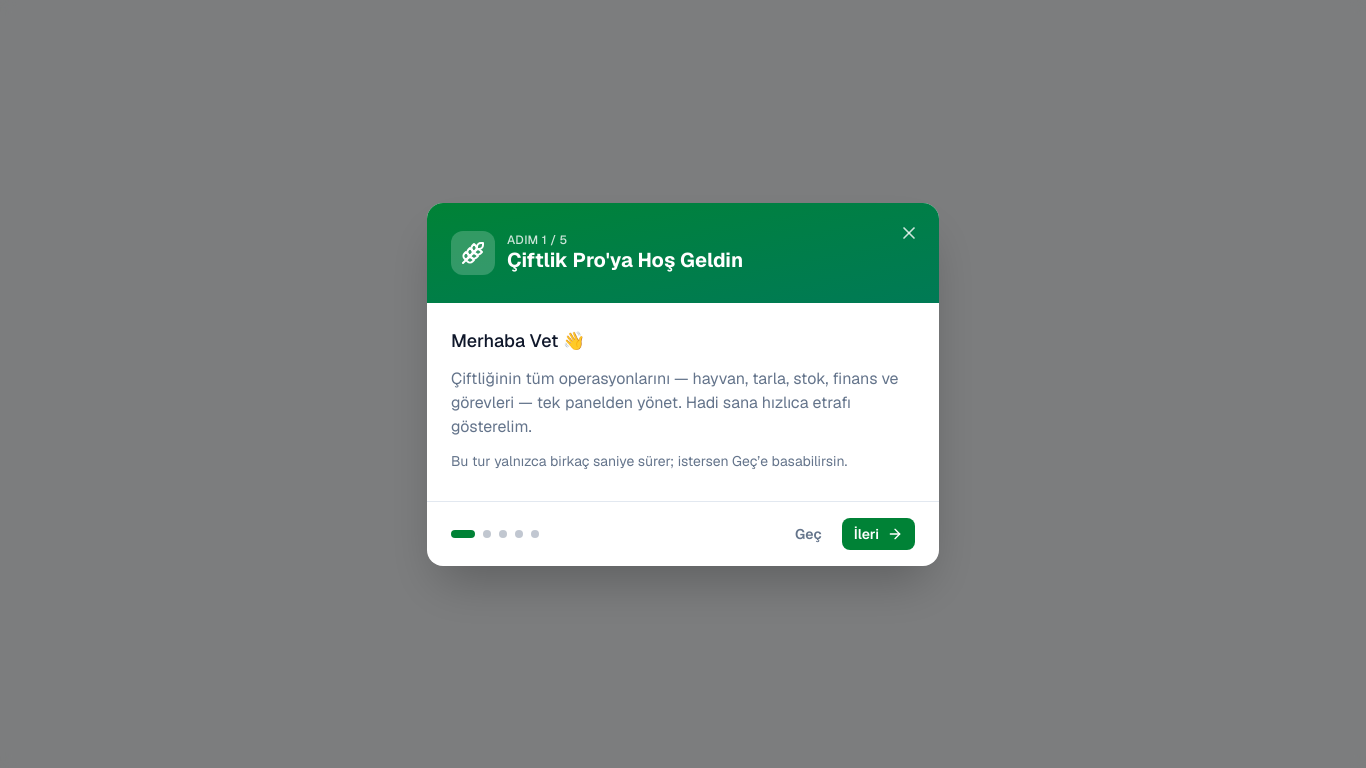
Test: OnboardingModal › role ozel adim, rolun yetkilerini gosterir (VET)
Go to step 3
Click the button "İleri" at (878, 534), box [842,518,915,550]
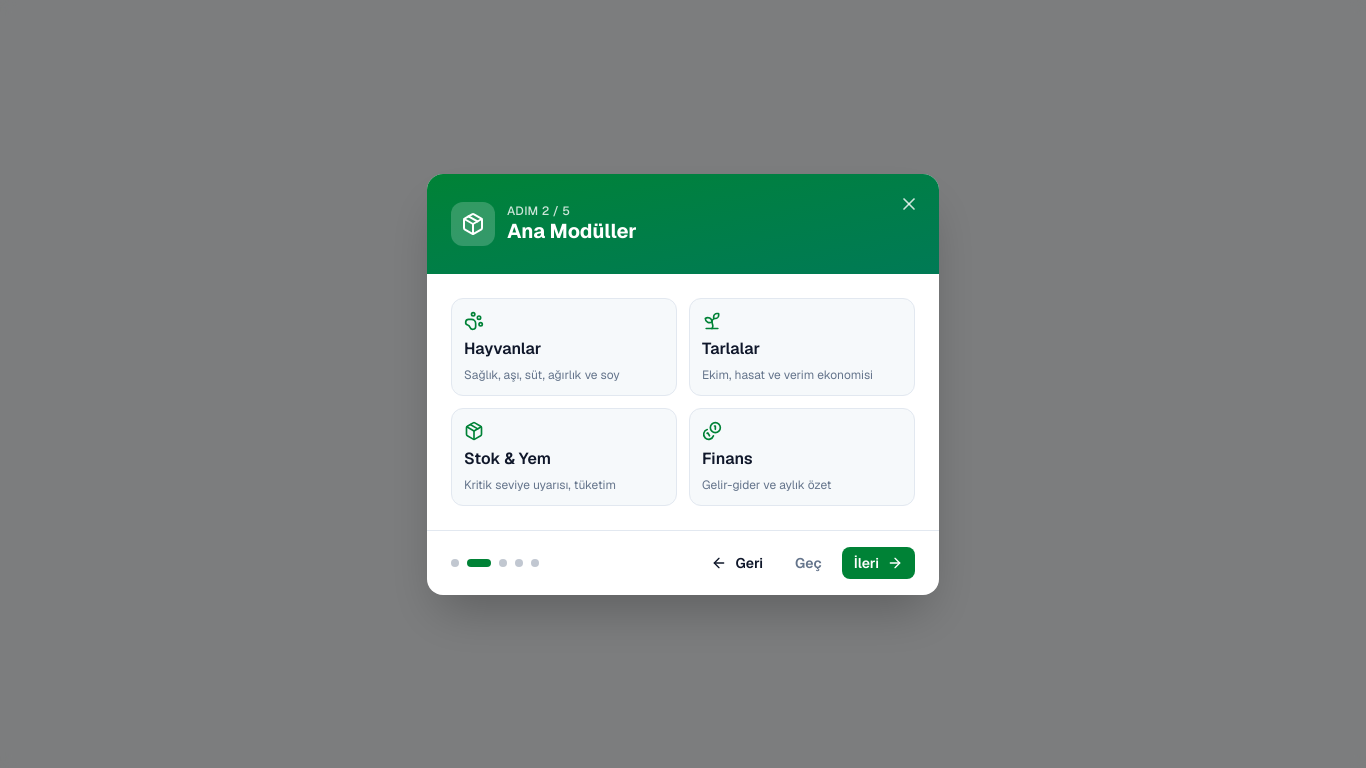
Click the button "İleri" at (878, 562), box [842,546,915,578]
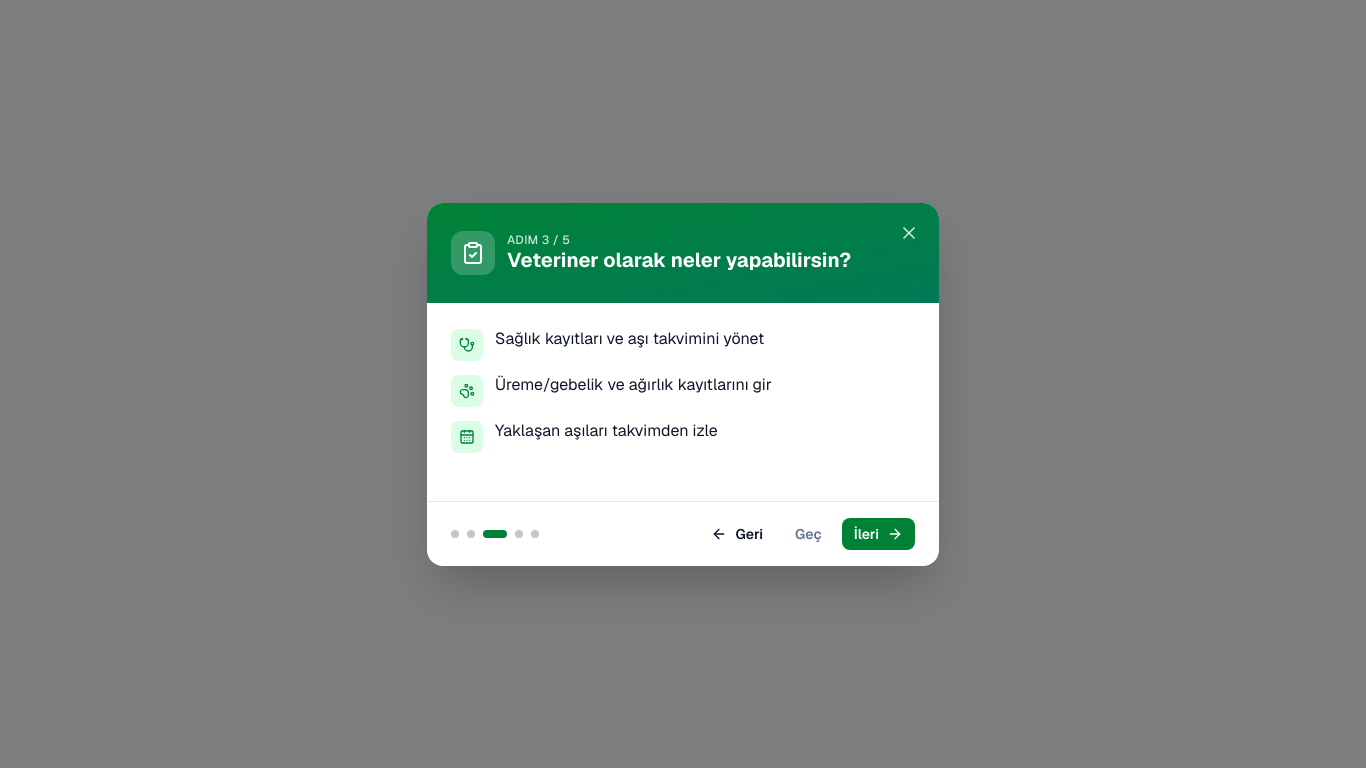
Now the heading "Veteriner olarak neler yapabilirsin?" is shown, box [507,248,851,273]
Now the text "Sağlık kayıtları ve aşı takvimini yönet" is shown, box [495,326,764,350]
